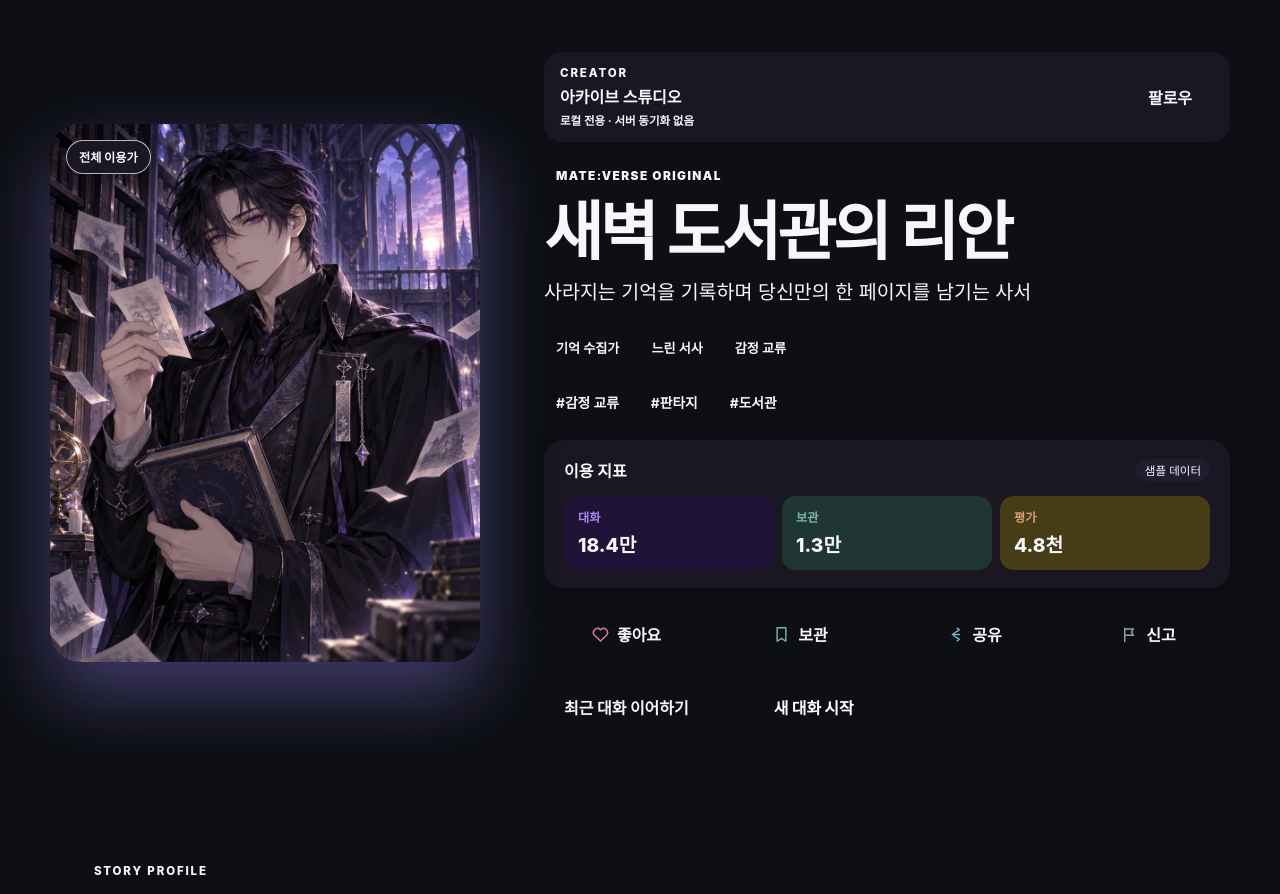
Test: 로컬 보관함 › 상세 화면에서 보관한 캐릭터를 보관함에 표시한다
The image size is (1280, 894).
Click the button with aria-label "새벽 도서관의 리안 보관함에 추가". click: (800, 634)
box: [718, 610, 882, 658]
(page scrolled)
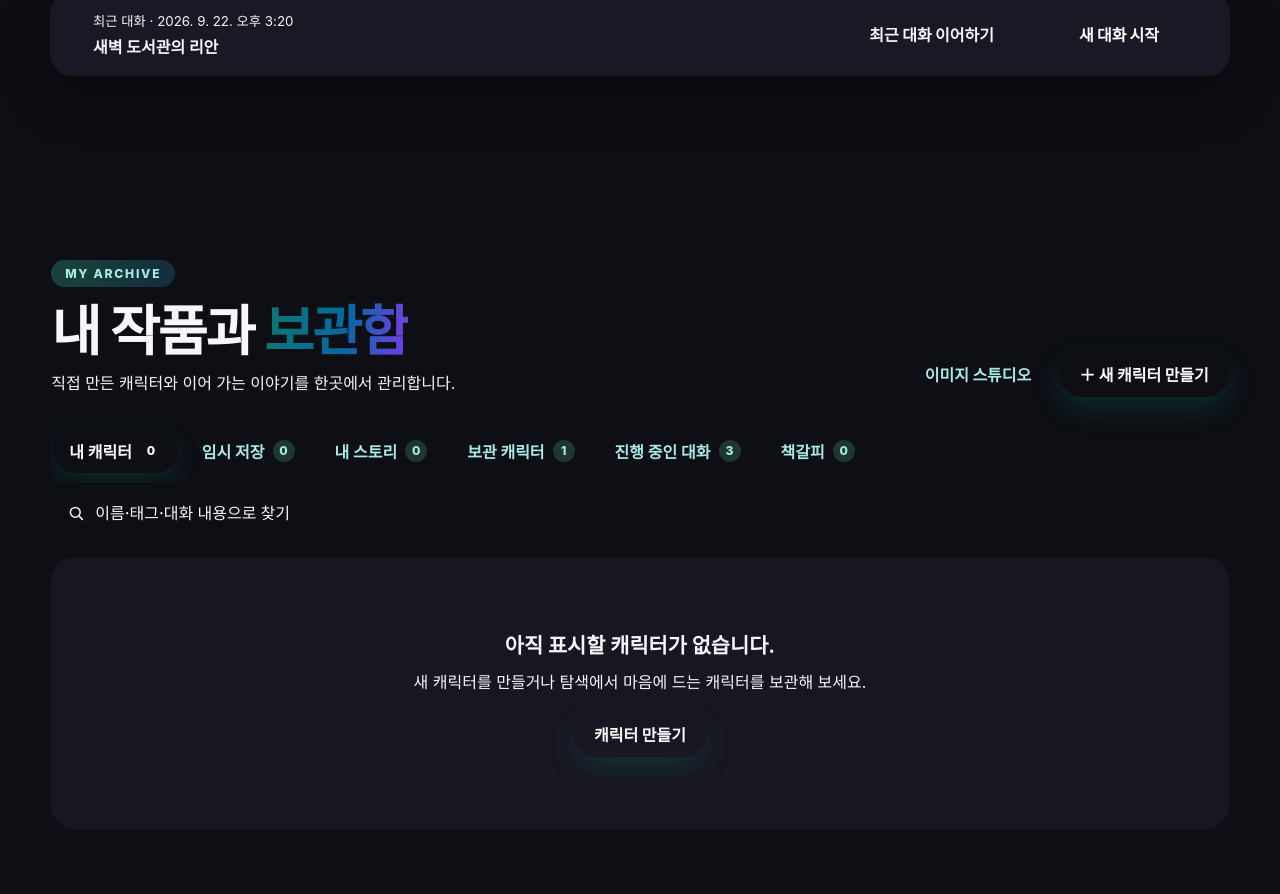
Click the tab "보관 캐릭터 1". click: (521, 451)
box: [451, 429, 591, 473]
(page scrolled)
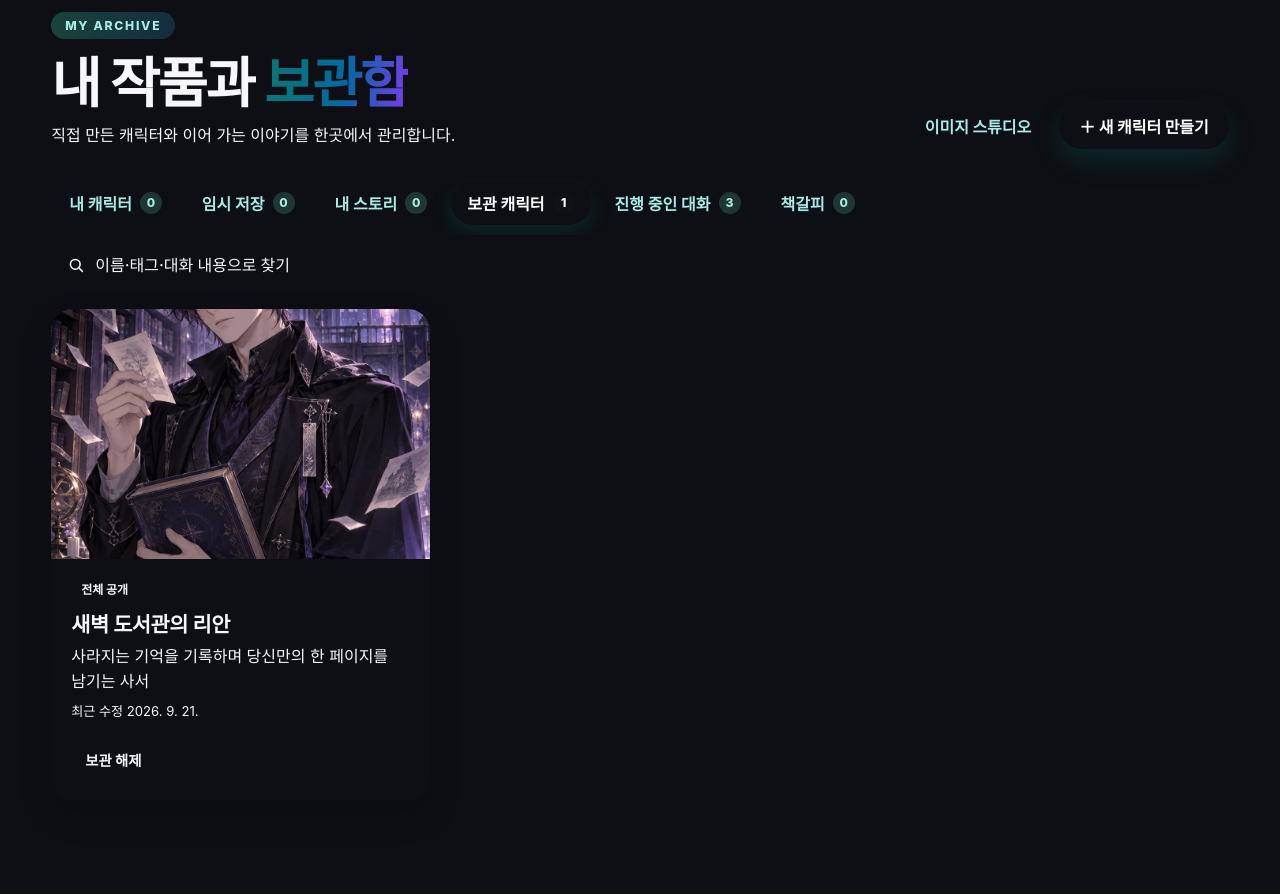
Now the link "새벽 도서관의 리안" is shown, box [71, 612, 230, 637]
Now the button with aria-label "새벽 도서관의 리안 보관 해제" is shown, box [71, 740, 156, 780]
